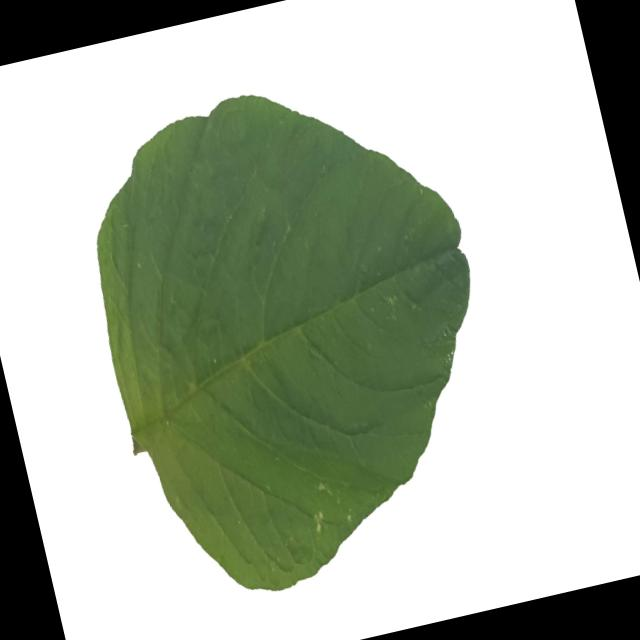Medicinal-Arive Dantu: (56, 44, 531, 614)
